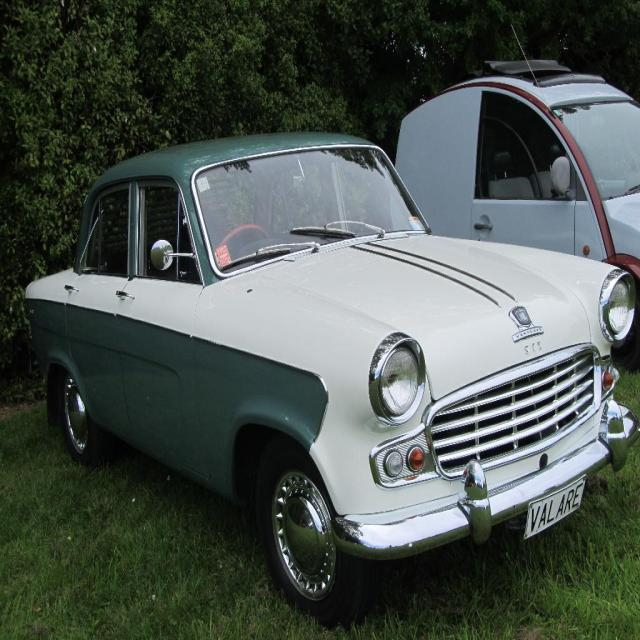car: (28, 112, 634, 616)
